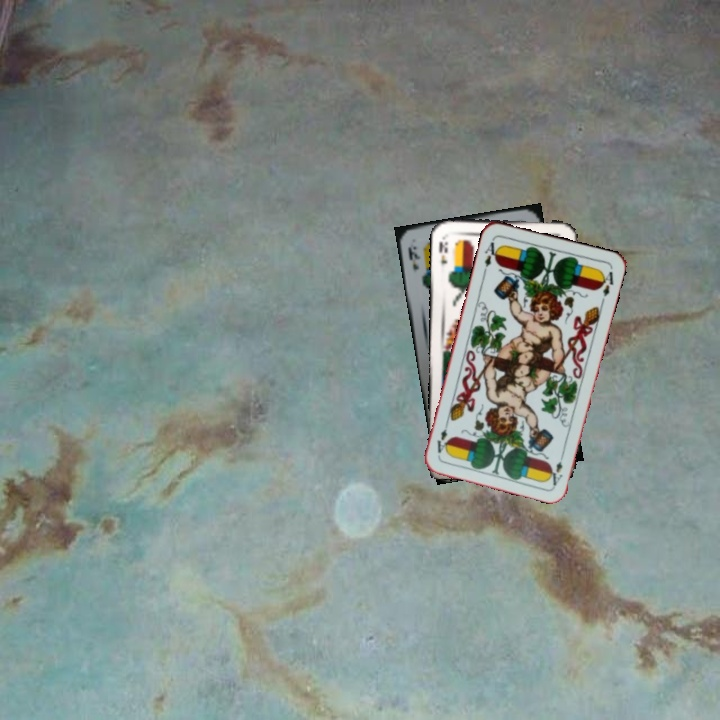EA: (479, 238, 502, 275), (546, 448, 567, 488)
EK: (404, 242, 422, 272), (434, 237, 450, 267)
